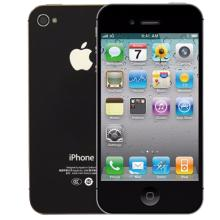phone: (95, 6, 203, 213), (27, 4, 96, 212)
